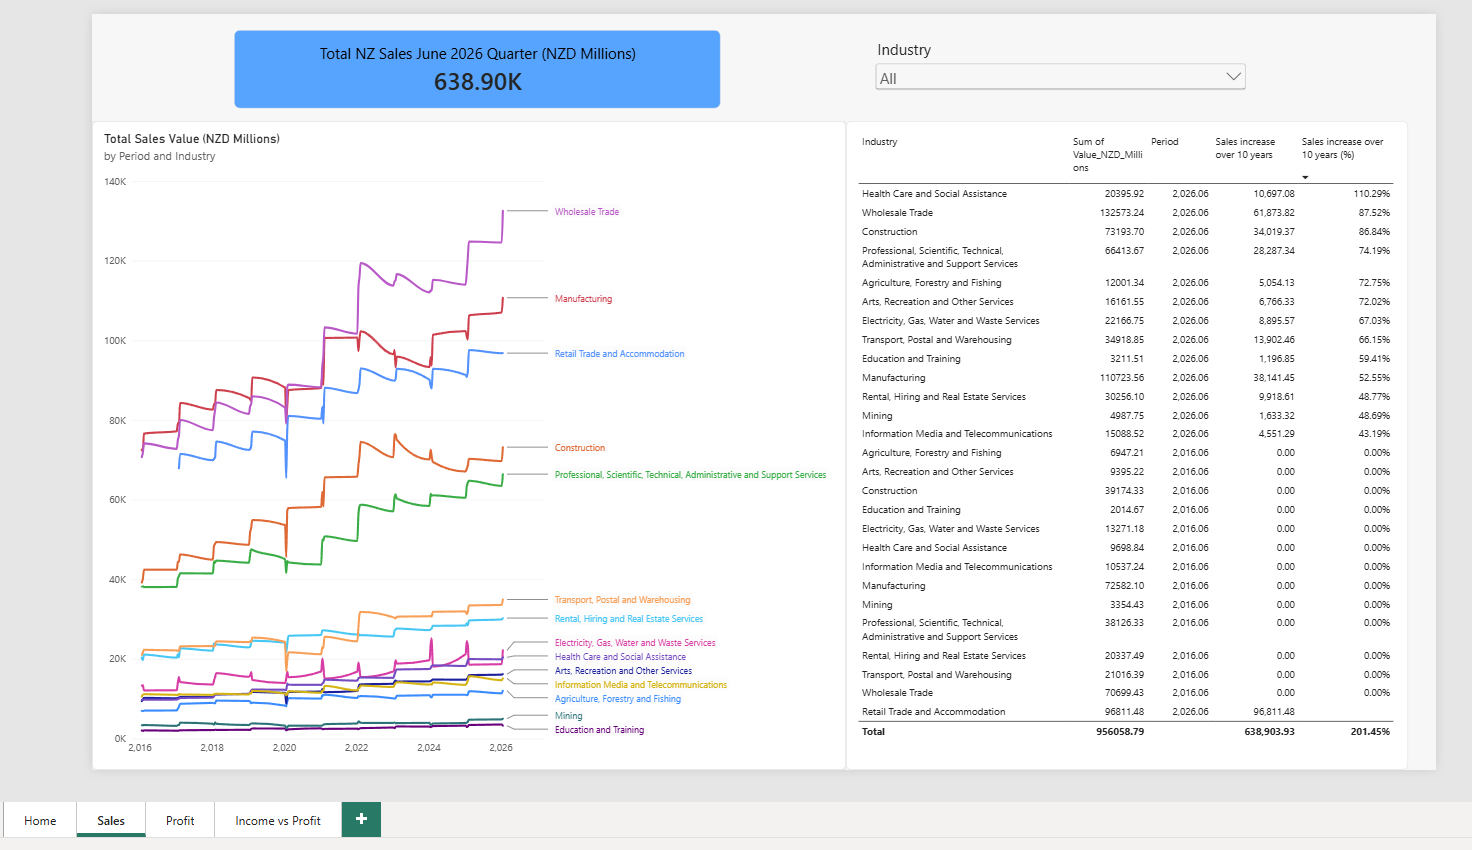

This screenshot's page, from the dashboard's own definition file:
{"tool":"powerbi","page":{"name":"Sales","canvas":[1920,1080],"ordinal":1},"visuals":[{"type":"lineChart","fields":{"Category":["business-financial-data-June-2026-quarter.Period"],"Series":["business-financial-data-June-2026-quarter.Industry"],"Y":["Sum(business-financial-data-June-2026-quarter.Value_NZD_Millions)"]},"box":[0,152.9,1077.1,927.1],"z":0},{"type":"cardVisual","fields":{"Data":["business-financial-data-June-2026-quarter.Total NZ Sales June 2026"]},"box":[202.4,23.4,695.7,112.1],"z":1000},{"type":"slicer","fields":{"Values":["business-financial-data-June-2026-quarter.Industry"]},"box":[1113.9,35.1,538.5,100.3],"z":2000},{"type":"tableEx","fields":{"Values":["business-financial-data-June-2026-quarter.Industry","Sum(business-financial-data-June-2026-quarter.Value_NZD_Millions)","business-financial-data-June-2026-quarter.Period","business-financial-data-June-2026-quarter.Sales increase over time","business-financial-data-June-2026-quarter.Sales increase over time %"]},"box":[1077.1,152.9,802.9,927.1],"z":3000}]}

Visuals, with their boxes on the page's 1920x1080 design canvas (x1, y1, x2, y2). These are canvas units, not pixel positions in the 1472x850 screenshot, which may show the page scaled, cropped or inside an application window:
lineChart - business-financial-data-June-2026-quarter.Period x business-financial-data-June-2026-quarter.Industry: locate(0, 153, 1077, 1080)
cardVisual - business-financial-data-June-2026-quarter.Total NZ Sales June 2026: locate(202, 23, 898, 136)
slicer - business-financial-data-June-2026-quarter.Industry: locate(1114, 35, 1652, 135)
tableEx - business-financial-data-June-2026-quarter.Industry x Sum(business-financial-data-June-2026-quarter.Value_NZD_Millions): locate(1077, 153, 1880, 1080)
